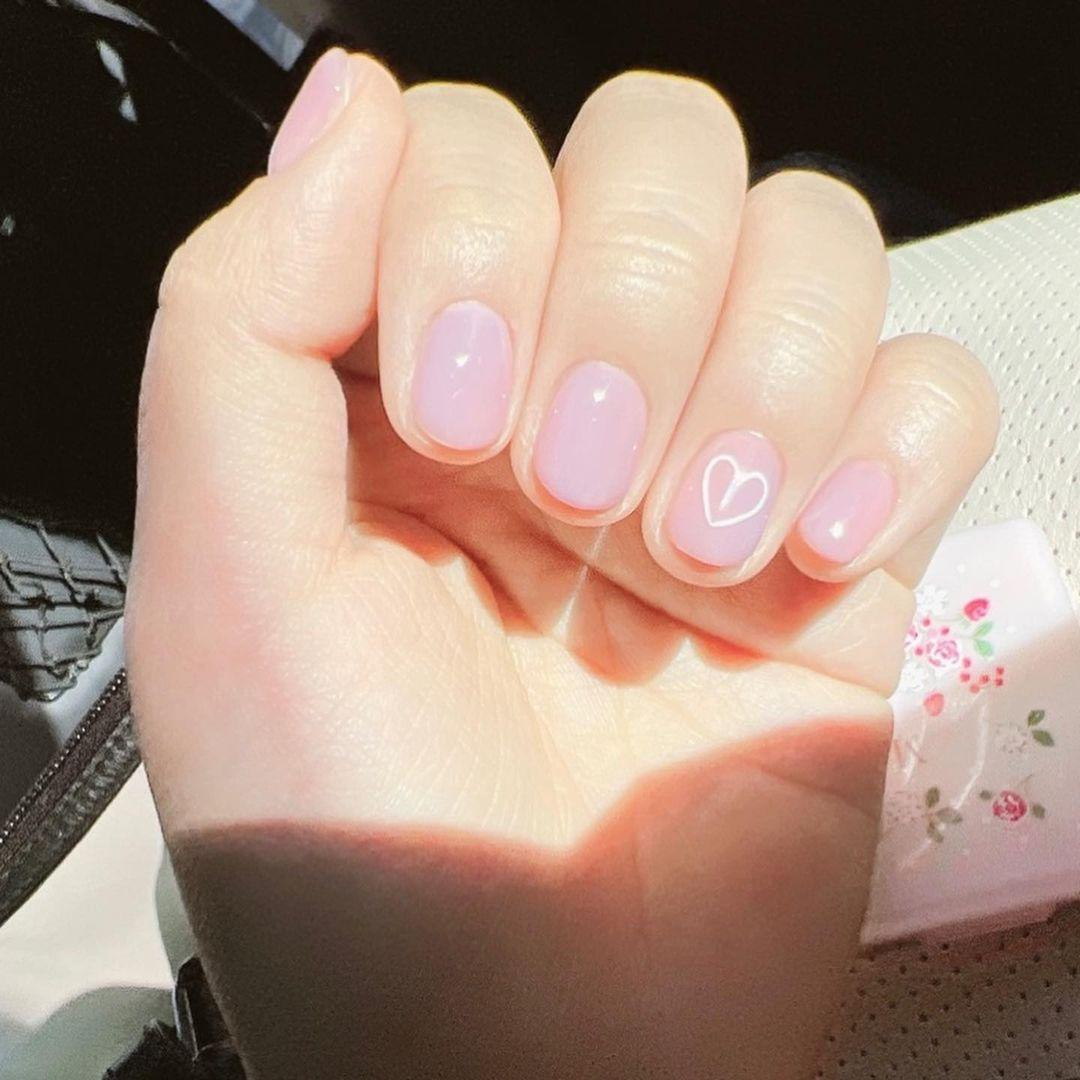nail: (529, 356, 649, 514), (661, 427, 784, 569), (407, 296, 515, 453), (794, 456, 897, 567), (265, 44, 351, 175)
